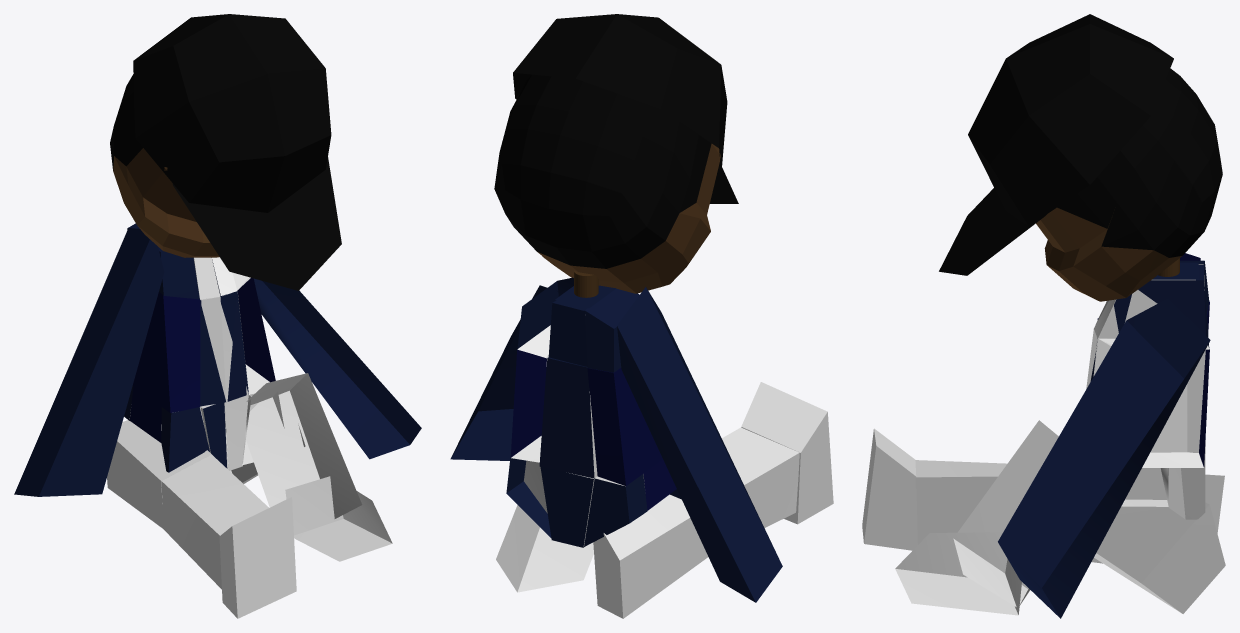
File: CopSitting.glb
The picture shows the model from 3 angles, left to right: view 1: azimuth 30°, elevation 25°; view 2: azimuth 150°, elevation 25°; view 3: azimuth 270°, elevation 25°; orthographic projection. The views are drawn at different scales.
Visible parts, largest first — view 1: Cube.029; view 2: Cube.029; view 3: Cube.029.
Boxes of the visible parts, bbox=[...] form: Cube.029: bbox=[14, 14, 421, 618]; Cube.029: bbox=[450, 14, 833, 618]; Cube.029: bbox=[862, 14, 1225, 618].
Bounding box in the file's own units: 2.11 × 3.07 × 1.79.
